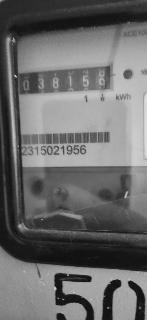1: (23, 80, 30, 91)
2: (68, 76, 75, 87)
4: (38, 79, 44, 90)
6: (83, 75, 89, 87)
9: (53, 78, 59, 89)
:: (99, 79, 105, 89)
